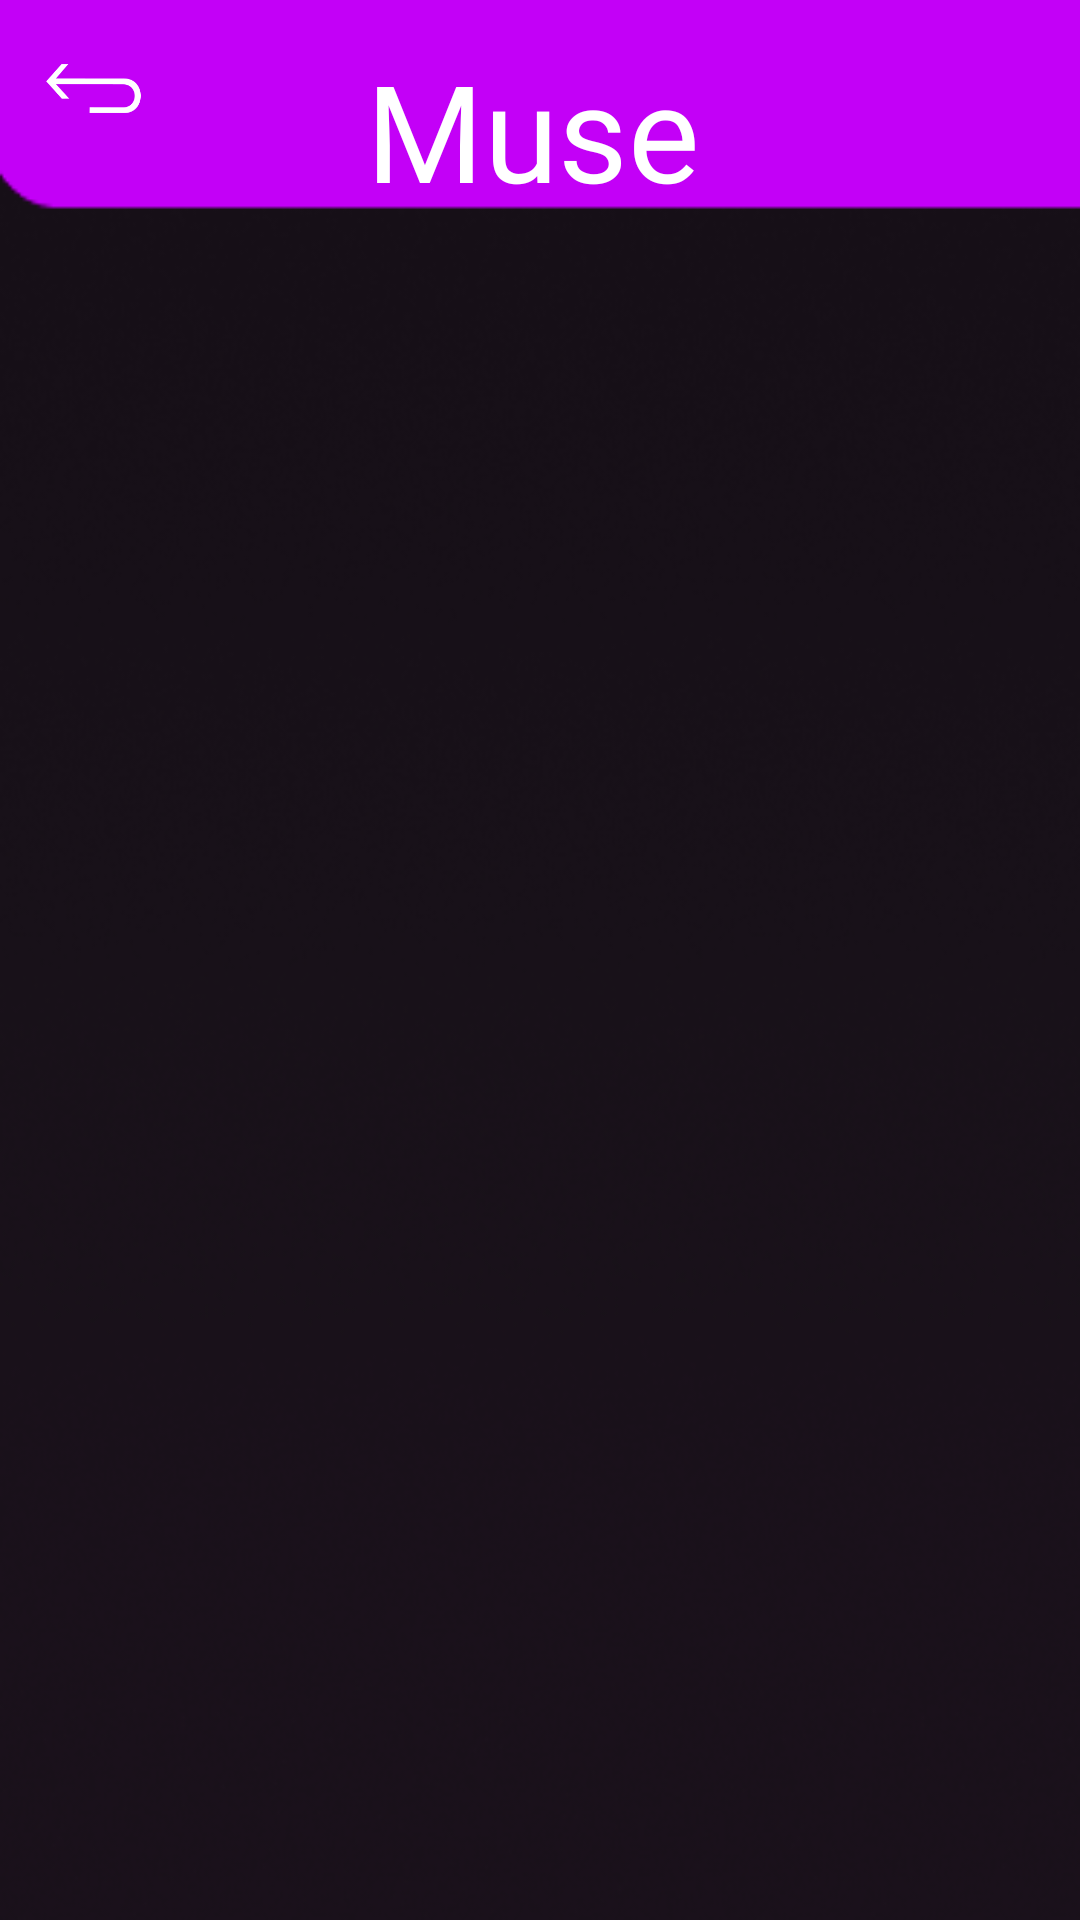

Point at icon controls on the screen. Image size 1080×1920, points as (x,y).
back: (93,88)
